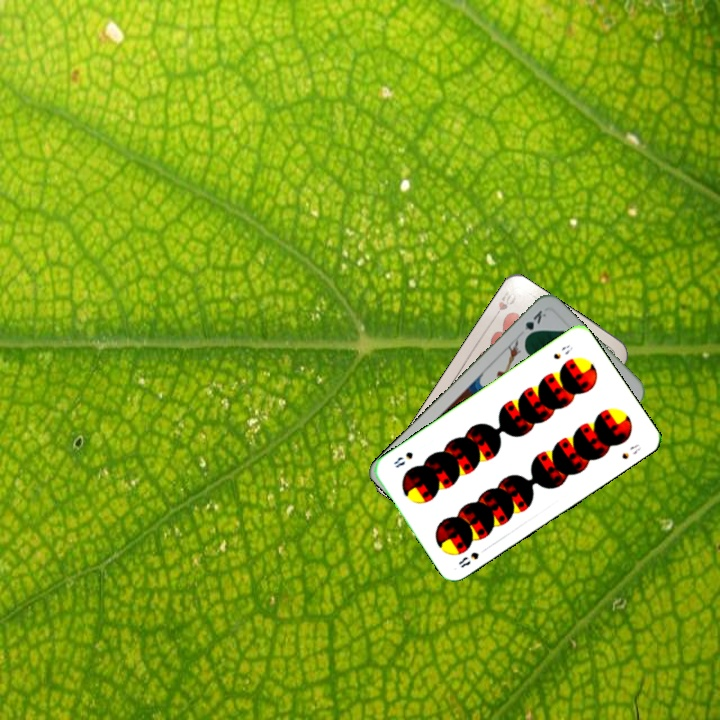GK: (520, 306, 549, 342)
H10: (489, 284, 519, 322)
S8: (454, 548, 481, 570), (549, 341, 575, 362)
